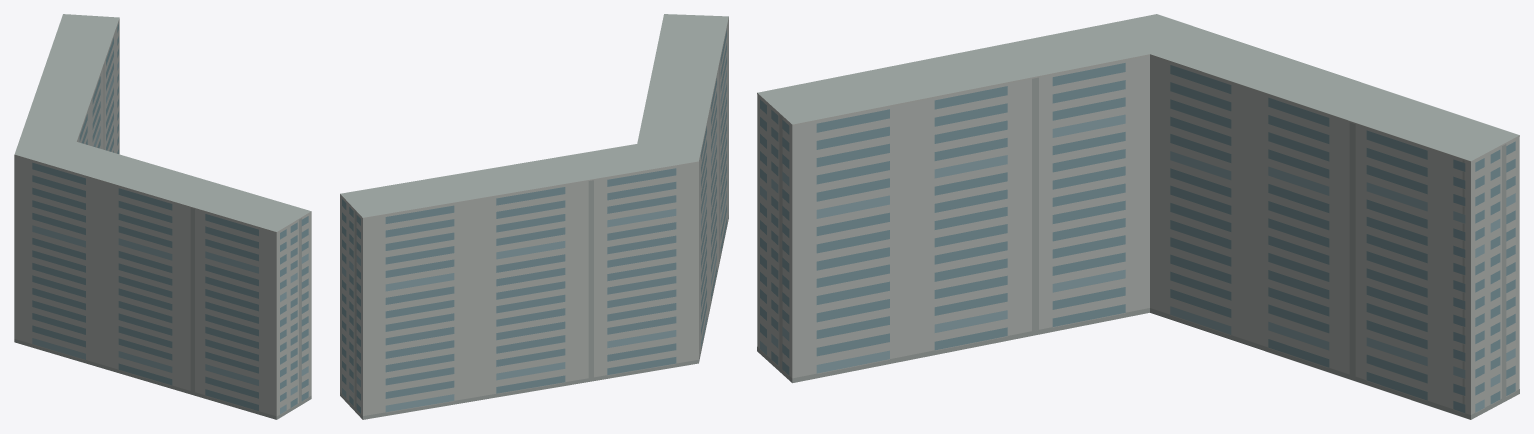
The model's file is residential-80d45ca9-e888-4bc2-8dcb-451ed664652e.glb.
3 renders of one model, left to right at view 1: azimuth 30°, elevation 25°; view 2: azimuth 150°, elevation 25°; view 3: azimuth 270°, elevation 25°, orthographic. The views are drawn at different scales.
Visible parts, largest first — view 1: residential-80d45ca9-e888-4bc2-8dcb-451ed664652e.tmp; view 2: residential-80d45ca9-e888-4bc2-8dcb-451ed664652e.tmp; view 3: residential-80d45ca9-e888-4bc2-8dcb-451ed664652e.tmp.
Boxes of the visible parts, bbox=[...] form: residential-80d45ca9-e888-4bc2-8dcb-451ed664652e.tmp: bbox=[14, 14, 311, 419]; residential-80d45ca9-e888-4bc2-8dcb-451ed664652e.tmp: bbox=[340, 14, 728, 419]; residential-80d45ca9-e888-4bc2-8dcb-451ed664652e.tmp: bbox=[757, 14, 1519, 419].
Bounding box in the file's own units: 55.94 × 45.75 × 122.
